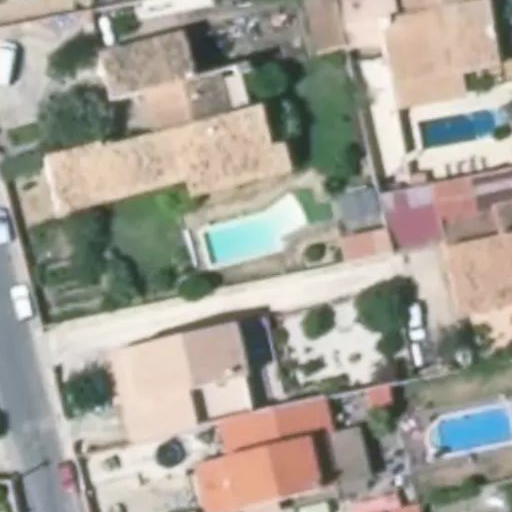pool: (216, 236, 296, 246)
